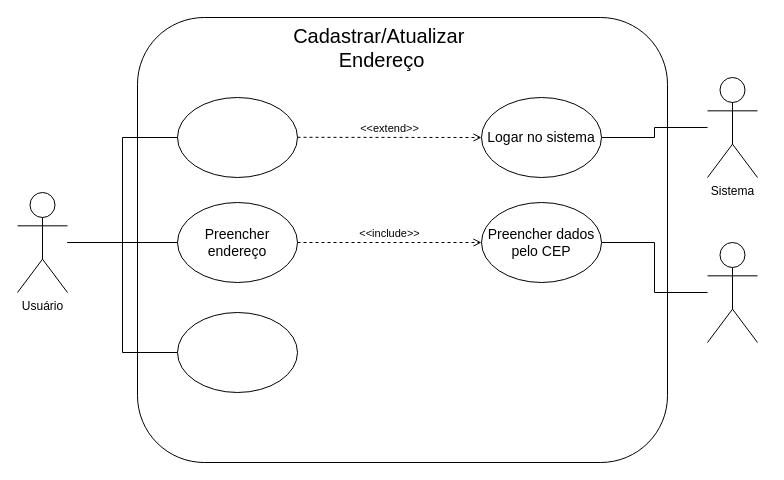
Image size: 784x480. Some labels were removed from this diagram. The shapes that lost their labels are listed below. From the top down, each one's centre as x and y in pixels, then its label:
point (237, 137): Acessar perfil
point (732, 292): API Correios
point (237, 352): Salvar dados
